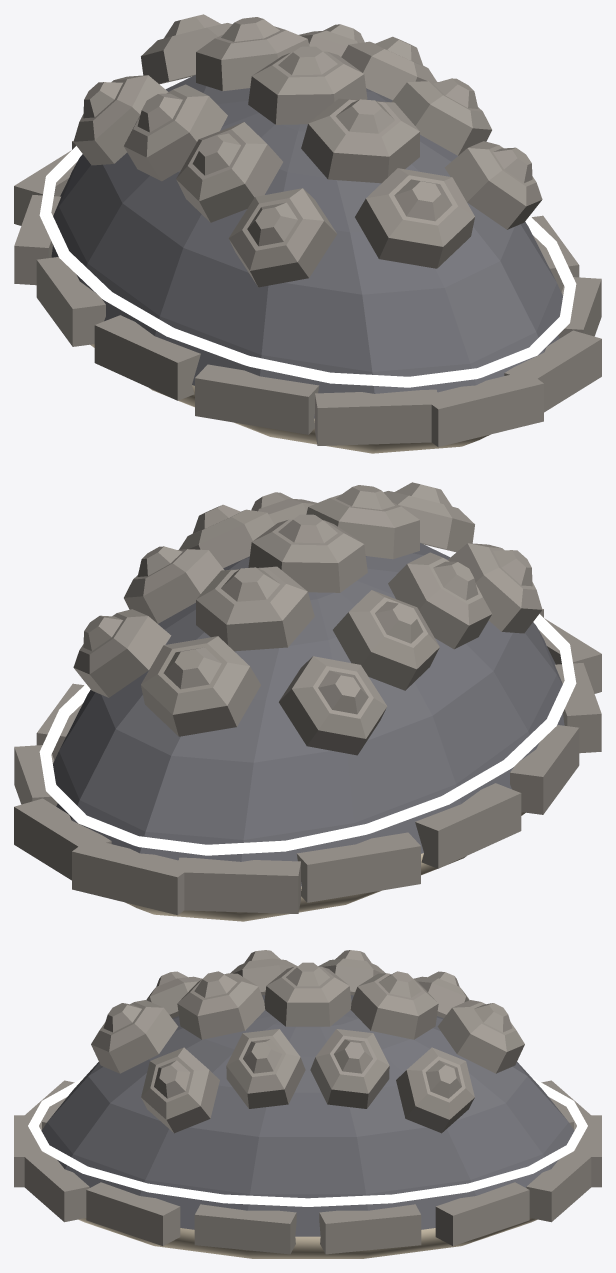
File: tortoise-shell.glb
The picture shows the model from 3 angles, top to bottom: view 1: azimuth 30°, elevation 25°; view 2: azimuth 150°, elevation 25°; view 3: azimuth 270°, elevation 25°; orthographic projection. The views are drawn at different scales.
Visible parts, largest first — view 1: shell; view 2: shell; view 3: shell.
Boxes of the visible parts, x1,y1,x2,y2 form: shell: (14, 14, 601, 453); shell: (14, 482, 601, 921); shell: (14, 950, 601, 1258).
Size of the model in its own units: 0.4452 by 0.2826 by 0.6298.
